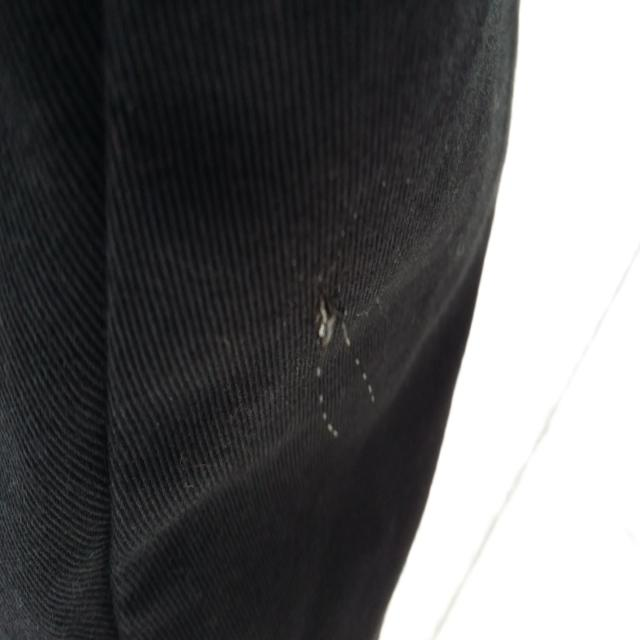albopictus: (296, 268, 394, 442)
